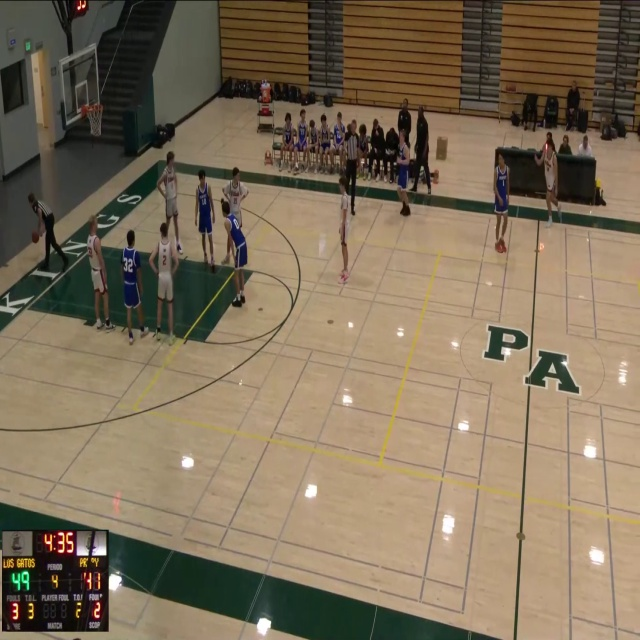Basketball: (31, 231, 39, 243)
